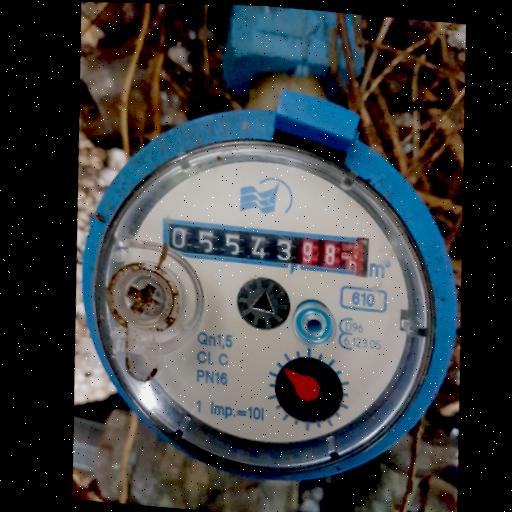0: (167, 223, 190, 253)
3: (272, 235, 295, 263)
4: (248, 233, 271, 261)
5: (194, 226, 217, 256), (221, 230, 244, 259)
6: (340, 236, 367, 277)
8: (320, 239, 340, 269)
9: (299, 237, 318, 266)
border_water_meter_number: (161, 217, 373, 278)
